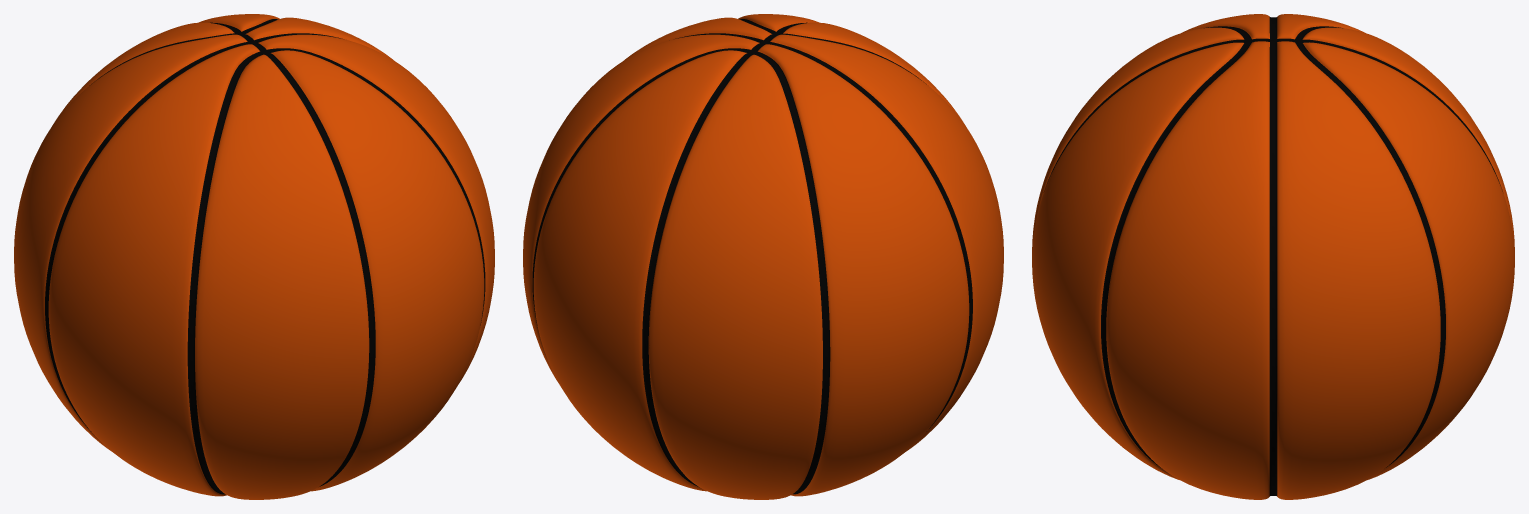
3 renders of one model, left to right at view 1: azimuth 30°, elevation 25°; view 2: azimuth 150°, elevation 25°; view 3: azimuth 270°, elevation 25°, orthographic.
Parts seen in each view (by area): view 1: Сфера; view 2: Сфера; view 3: Сфера.
Boxes of the visible parts, box(x1,y1,x2,y2) form: Сфера: box(14, 14, 494, 499); Сфера: box(523, 14, 1003, 499); Сфера: box(1032, 14, 1514, 499).
Size of the model in its own units: 193 by 194 by 193.
